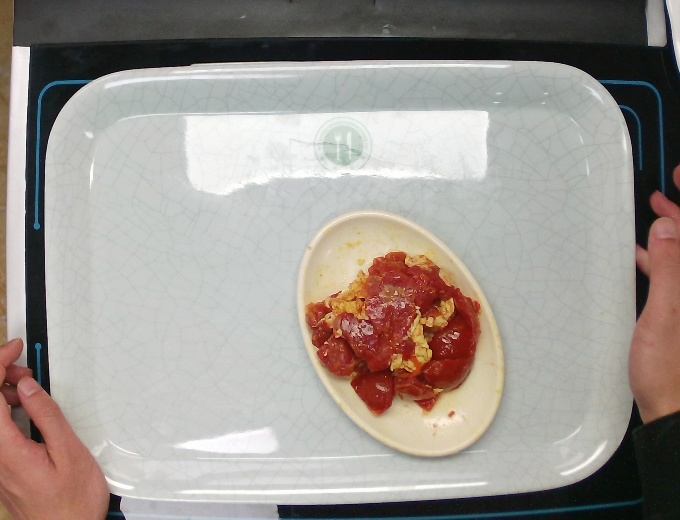JYsf-Tuo_Yuan_Wan: (292, 208, 509, 458)
